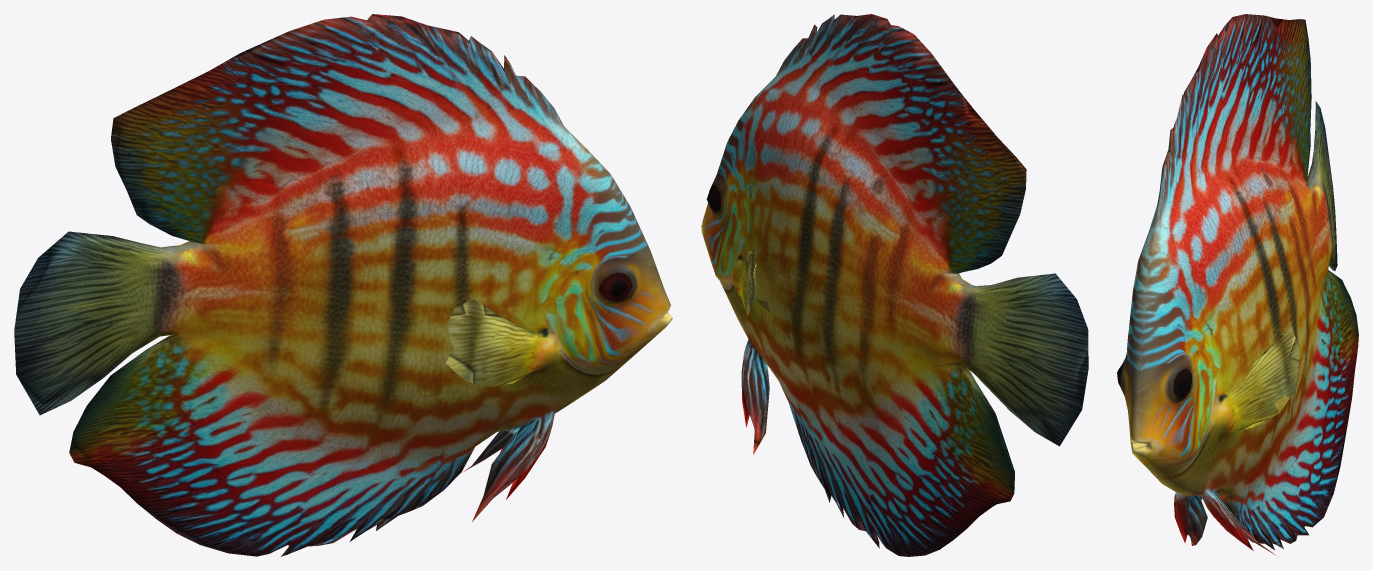
Rendered from tropicalfish_b5_single_1500.glb.
The picture shows the model from 3 angles, left to right: view 1: azimuth 30°, elevation 25°; view 2: azimuth 150°, elevation 25°; view 3: azimuth 270°, elevation 25°; orthographic projection. The views are drawn at different scales.
Bounding box in the file's own units: 0.8412 × 0.8278 × 0.3484.
Materials: 1 (1 with a texture image).
